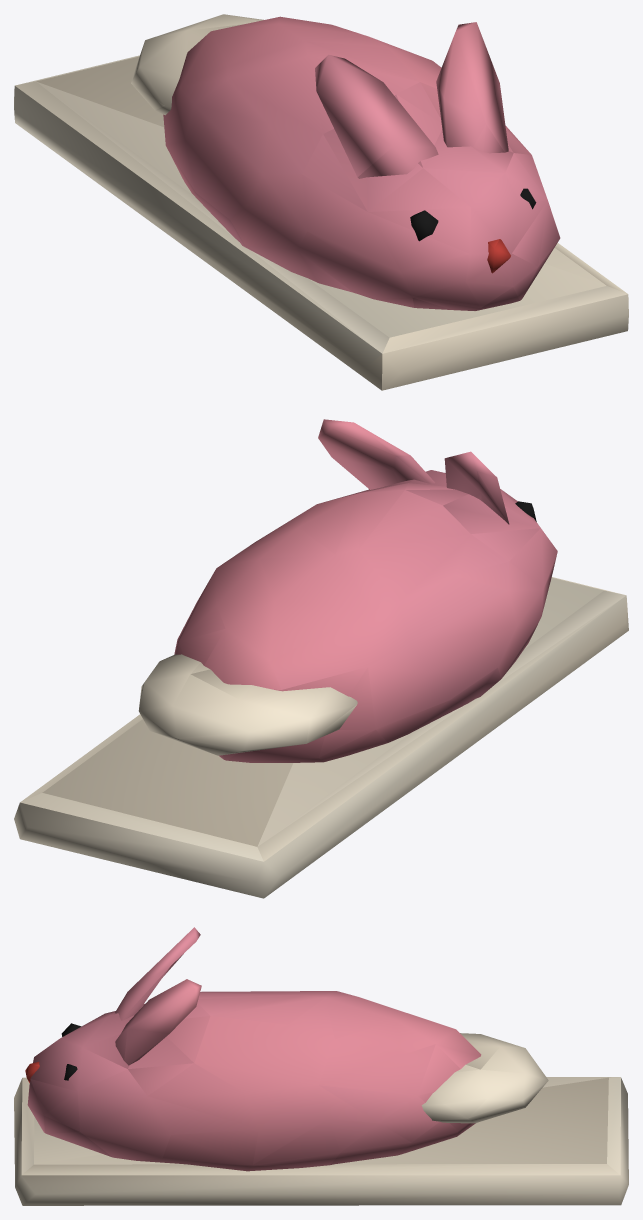
File: den_slipper_lod2.glb
3 renders of one model, top to bottom at view 1: azimuth 30°, elevation 25°; view 2: azimuth 150°, elevation 25°; view 3: azimuth 270°, elevation 25°, orthographic. The views are drawn at different scales.
Visible parts, largest first — view 1: den_slipper.001; view 2: den_slipper.001; view 3: den_slipper.001.
Boxes of the visible parts, <box> form: den_slipper.001: <box>14,14,628,390</box>; den_slipper.001: <box>14,419,628,898</box>; den_slipper.001: <box>14,927,628,1205</box>.
Size of the model in its own units: 12.22 by 11.14 by 30.02.
